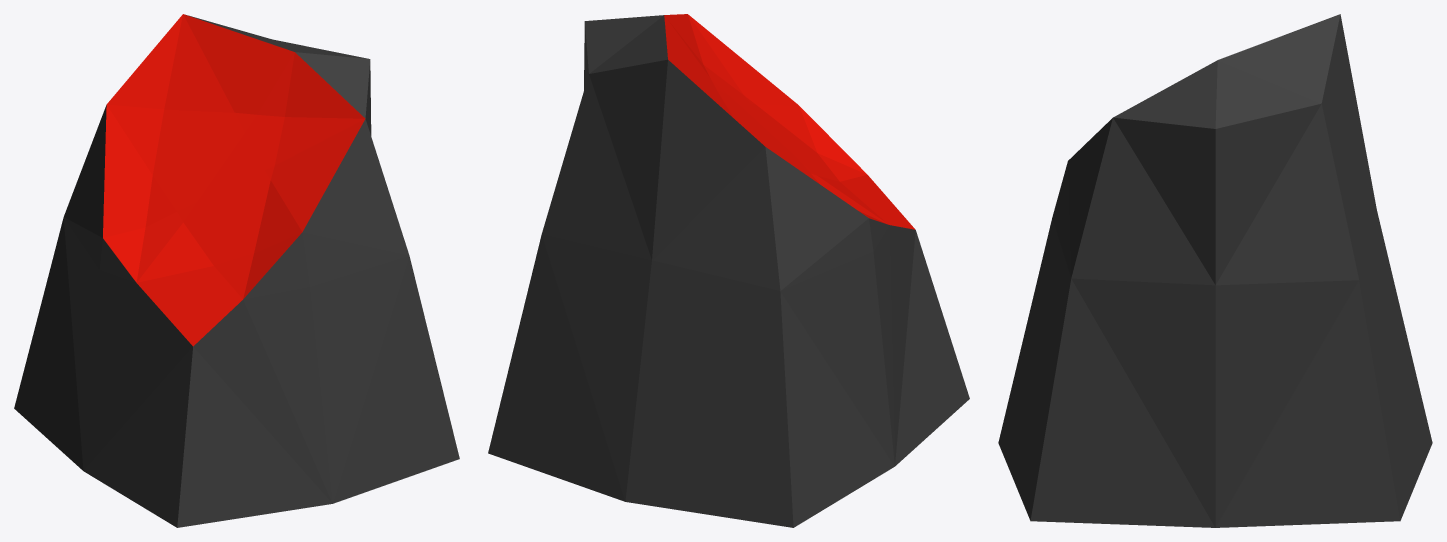
Rendered from coolrock1.fbx.
3 renders of one model, left to right at view 1: azimuth 30°, elevation 25°; view 2: azimuth 150°, elevation 25°; view 3: azimuth 270°, elevation 25°, orthographic. The views are drawn at different scales.
Parts seen in each view (by area): view 1: coolrock1; view 2: coolrock1; view 3: coolrock1.
Boxes of the visible parts, x1,y1,x2,y2 form: coolrock1: (14, 14, 459, 527); coolrock1: (488, 14, 969, 527); coolrock1: (998, 14, 1432, 527).
Bounding box in the file's own units: 224 × 264 × 242.
